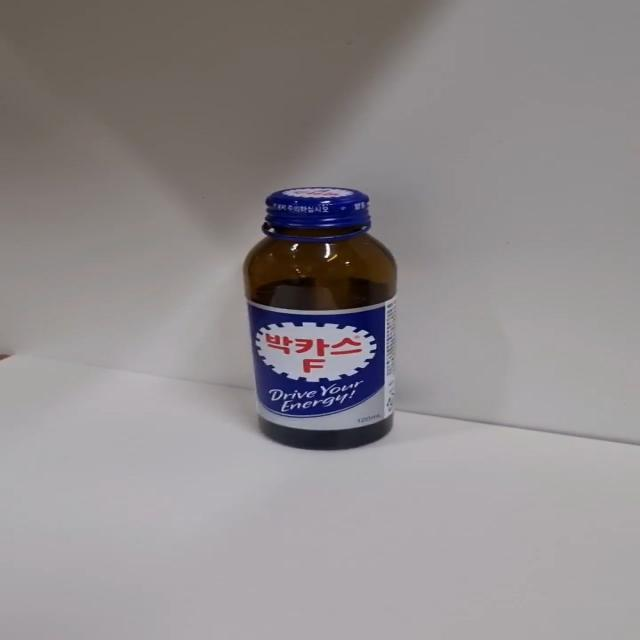Glass: (241, 187, 399, 452)
